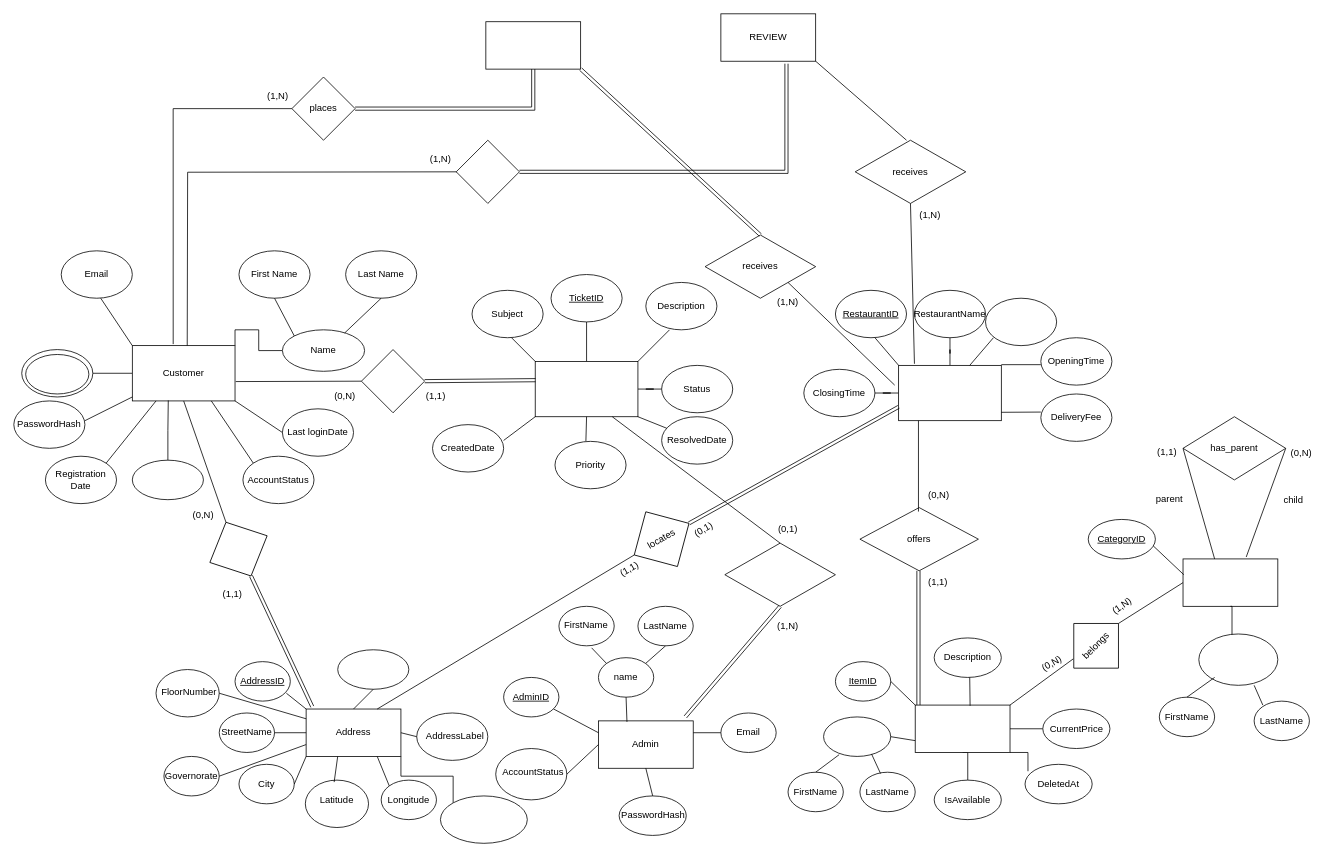
This 1339x857 diagram has some shape labels left out. Each missing label, with the centre of its shape:
ApartmentNumber: point 483,819
AverageRating: point 1021,321
BuildingNumber: point 373,669
CATEGORY: point 1230,582
CategoryName: point 1238,659
Customer ID: point 167,479
handles: point 779,574
Item: point 962,728
ItemName: point 857,736
ORDER: point 533,45
phone: point 57,374
RESTAURANT: point 949,393
saves: point 238,548
submits: point 393,381
SUPPORT_TICKET: point 586,389
writes: point 487,171
